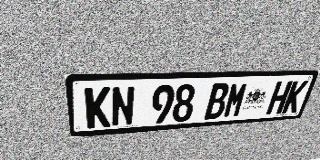8: (171, 84, 197, 122)
9: (150, 85, 176, 124)
B: (204, 83, 231, 120)
H: (266, 81, 293, 115)
K: (85, 87, 110, 129), (281, 80, 309, 114)
M: (222, 82, 249, 118)
N: (111, 86, 135, 127)
